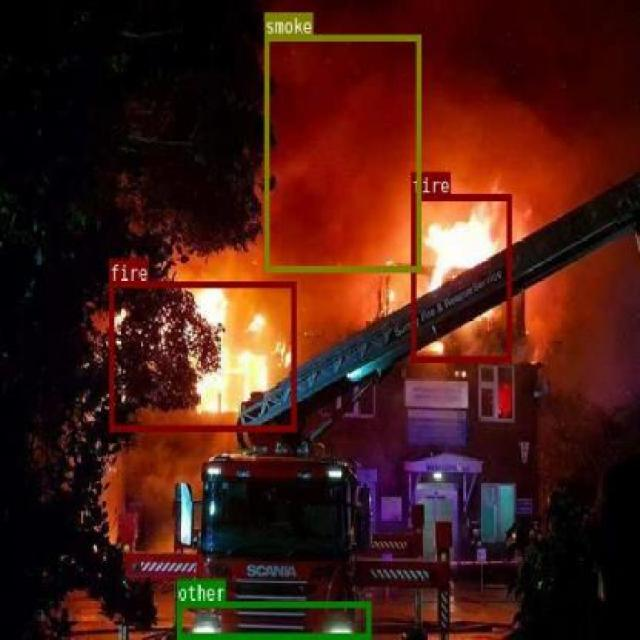Fire: (108, 280, 294, 431), (410, 192, 510, 362)
Smoke: (263, 35, 420, 272)
